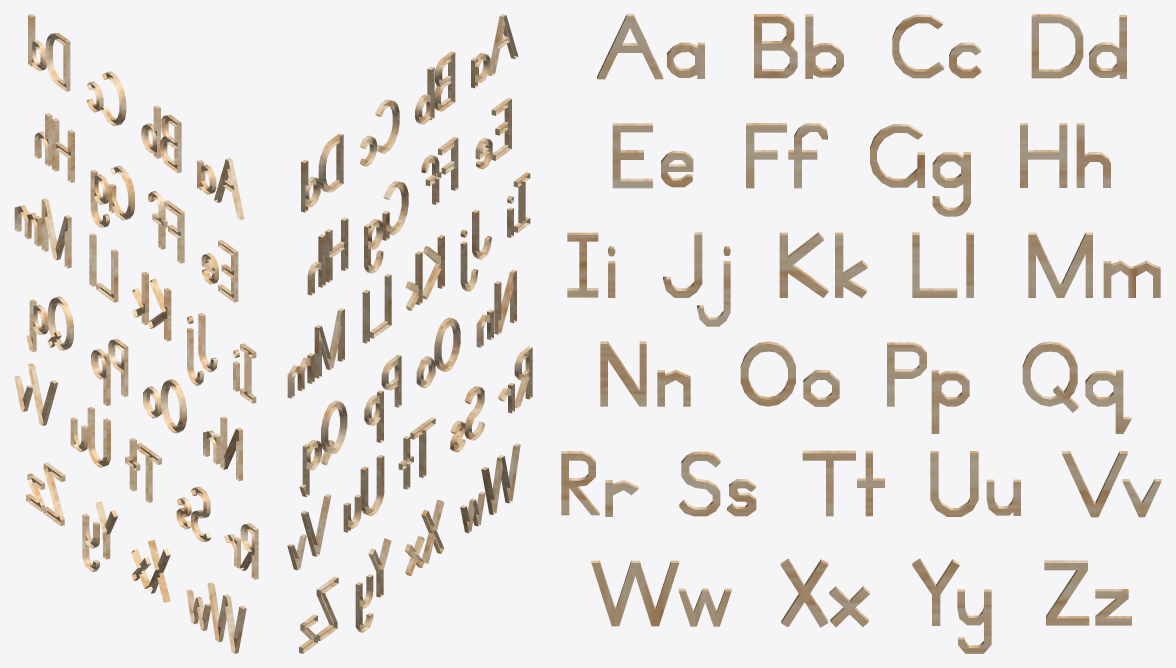
File: Alphabet.fbx
3 views of the same model, side by side, from view 1: azimuth 30°, elevation 25°; view 2: azimuth 150°, elevation 25°; view 3: azimuth 270°, elevation 25° (orthographic). The views are drawn at different scales.
Parts seen in each view (by area): view 1: Alphabet; view 2: Alphabet; view 3: Alphabet.
Part boxes in pixels (left/top/right/bottom): Alphabet: left=14, top=14, right=258, bottom=653; Alphabet: left=287, top=14, right=532, bottom=653; Alphabet: left=561, top=14, right=1161, bottom=653.
Bounding box in the file's own units: 4.6 × 524 × 447.
